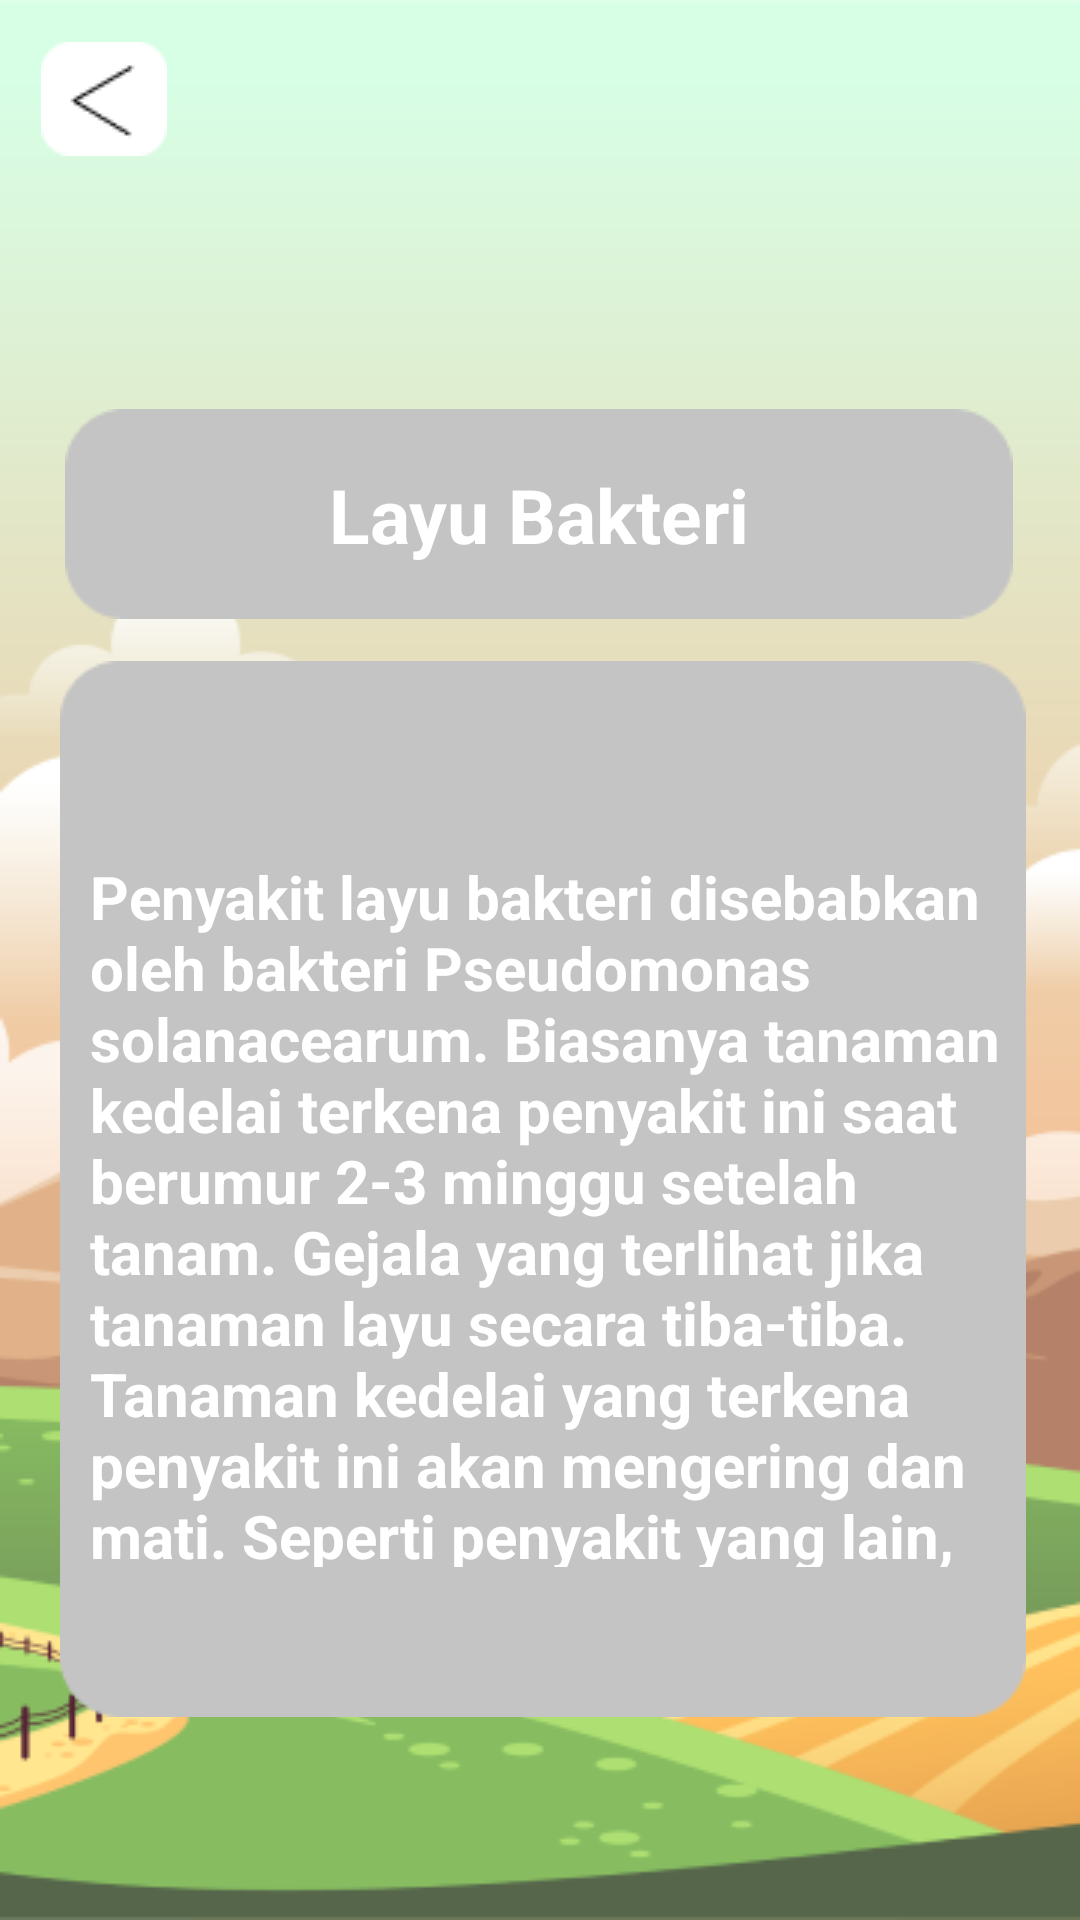

Icon click points for this 1080w x 1920h phone screenshot, format point (x, y):
back: point (104, 99)
